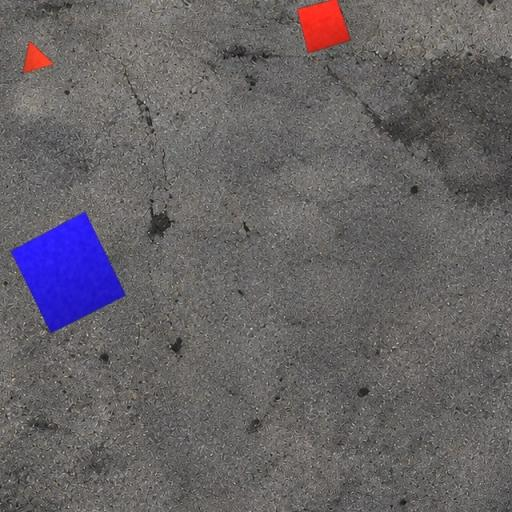BLUE_SQUARE: (10, 212, 126, 334)
RED_SQUARE: (296, 0, 351, 54)
